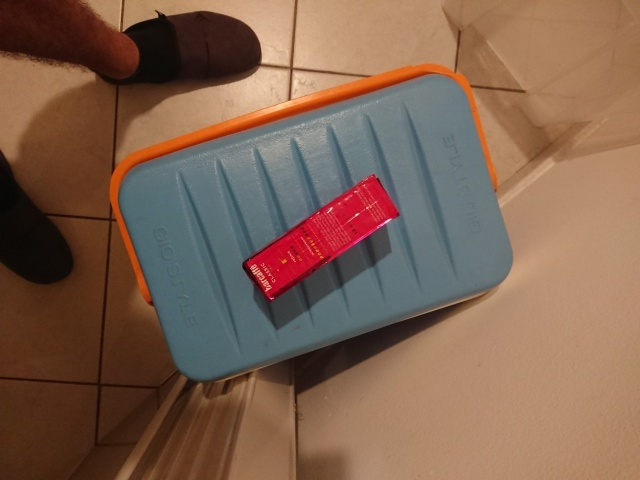Barcaffe Classic Original 225g: (240, 171, 404, 306)
